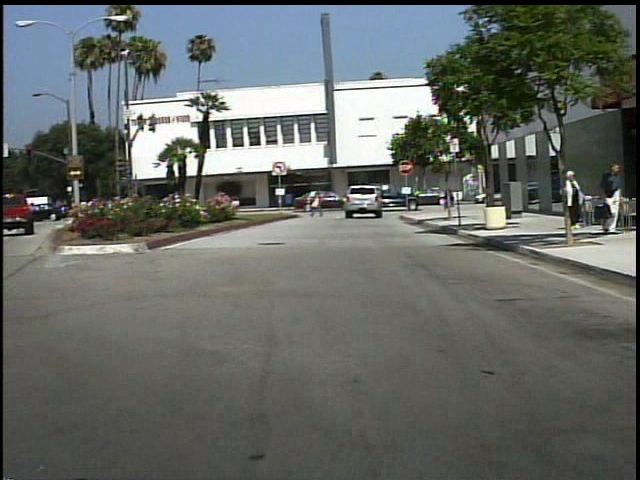person: (600, 161, 625, 237), (561, 171, 588, 230), (440, 180, 464, 214), (312, 186, 329, 219)
